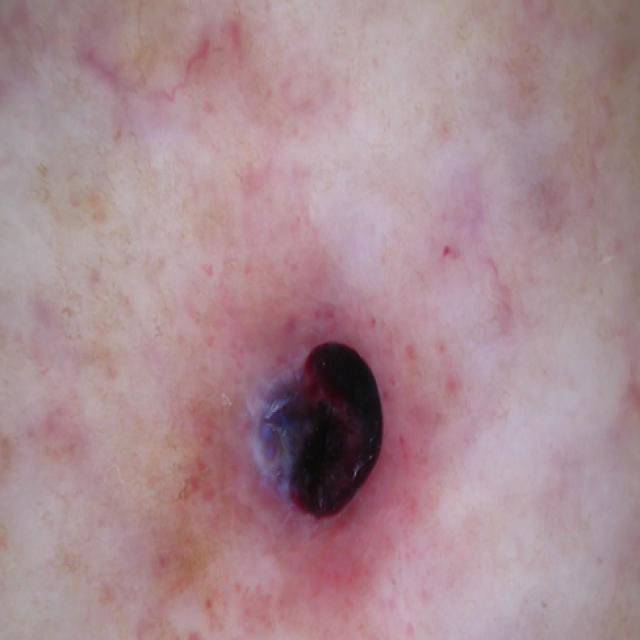Vascular Lesions: (206, 290, 415, 550)
